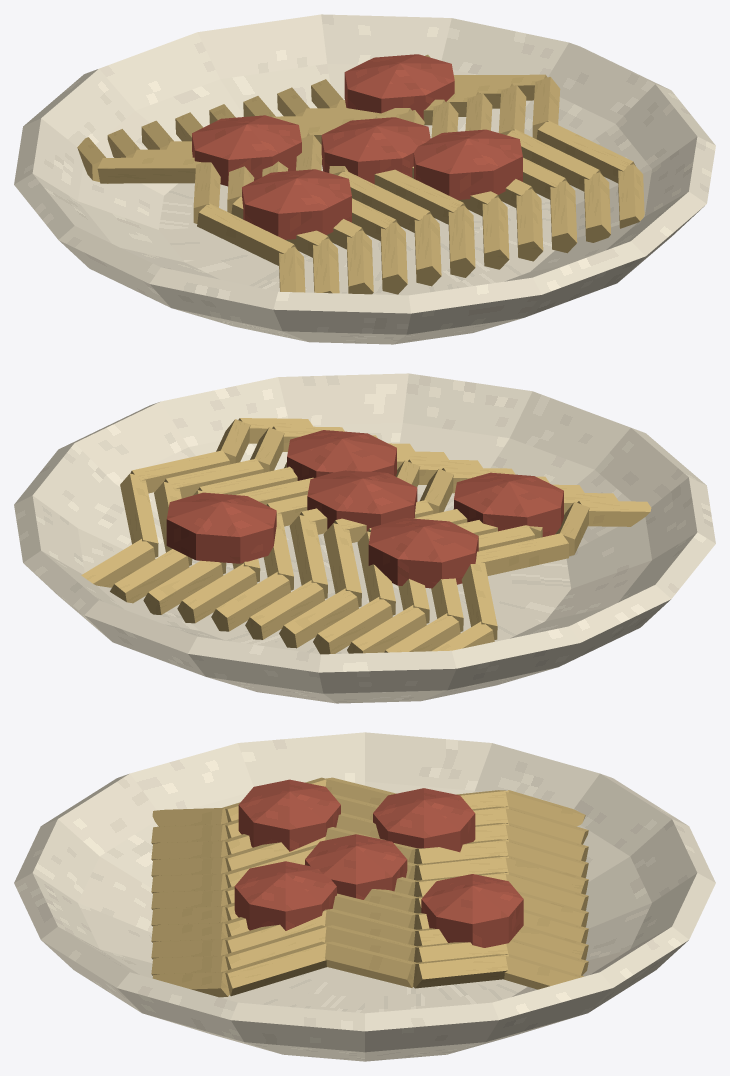
File: spaghetti_bolognese.glb
The picture shows the model from 3 angles, top to bottom: view 1: azimuth 30°, elevation 25°; view 2: azimuth 150°, elevation 25°; view 3: azimuth 270°, elevation 25°; orthographic projection.
Visible parts, largest first — view 1: block_serving dish, block_tomato ragù (×5), block_loose pasta strand 4 (×11), block_loose pasta strand 3 (×9), block_loose pasta strand 2 (×7), block_loose pasta strand 1 (×5), block_loose pasta strand 0 (×6); view 2: block_serving dish, block_tomato ragù (×5), block_loose pasta strand 0 (×11), block_loose pasta strand 1 (×9), block_loose pasta strand 2 (×8), block_loose pasta strand 4 (×5), block_loose pasta strand 3 (×4); view 3: block_serving dish, block_tomato ragù (×5), block_loose pasta strand 0 (×11), block_loose pasta strand 4 (×11), block_loose pasta strand 2 (×9), block_loose pasta strand 1 (×7), block_loose pasta strand 3 (×5).
Boxes of the visible parts, <box> form: block_serving dish: <box>14,14,715,344</box>; block_tomato ragù (×5): <box>192,54,522,239</box>; block_loose pasta strand 4 (×11): <box>279,164,644,294</box>; block_loose pasta strand 3 (×9): <box>197,120,635,265</box>; block_loose pasta strand 2 (×7): <box>193,77,560,223</box>; block_loose pasta strand 1 (×5): <box>97,74,547,183</box>; block_loose pasta strand 0 (×6): <box>77,79,343,183</box>; block_serving dish: <box>14,373,715,703</box>; block_tomato ragù (×5): <box>166,430,563,588</box>; block_loose pasta strand 0 (×11): <box>81,539,494,654</box>; block_loose pasta strand 1 (×9): <box>120,473,497,640</box>; block_loose pasta strand 2 (×8): <box>130,450,568,575</box>; block_loose pasta strand 4 (×5): <box>238,418,651,526</box>; block_loose pasta strand 3 (×4): <box>216,419,589,556</box>; block_serving dish: <box>14,732,715,1061</box>; block_tomato ragù (×5): <box>234,779,523,947</box>; block_loose pasta strand 0 (×11): <box>504,790,588,989</box>; block_loose pasta strand 4 (×11): <box>151,808,229,997</box>; block_loose pasta strand 2 (×9): <box>324,777,417,987</box>; block_loose pasta strand 1 (×7): <box>413,790,508,988</box>; block_loose pasta strand 3 (×5): <box>222,836,326,996</box>.
Bounding box in the file's own units: 0.1144 × 0.0231 × 0.1144.
Materials: 1 (1 with a texture image).
